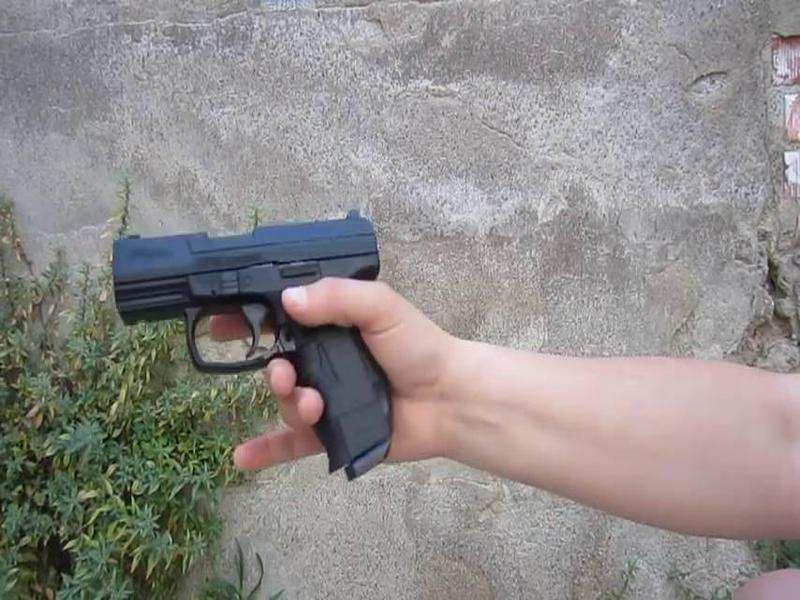Pistola: (106, 200, 424, 504)
